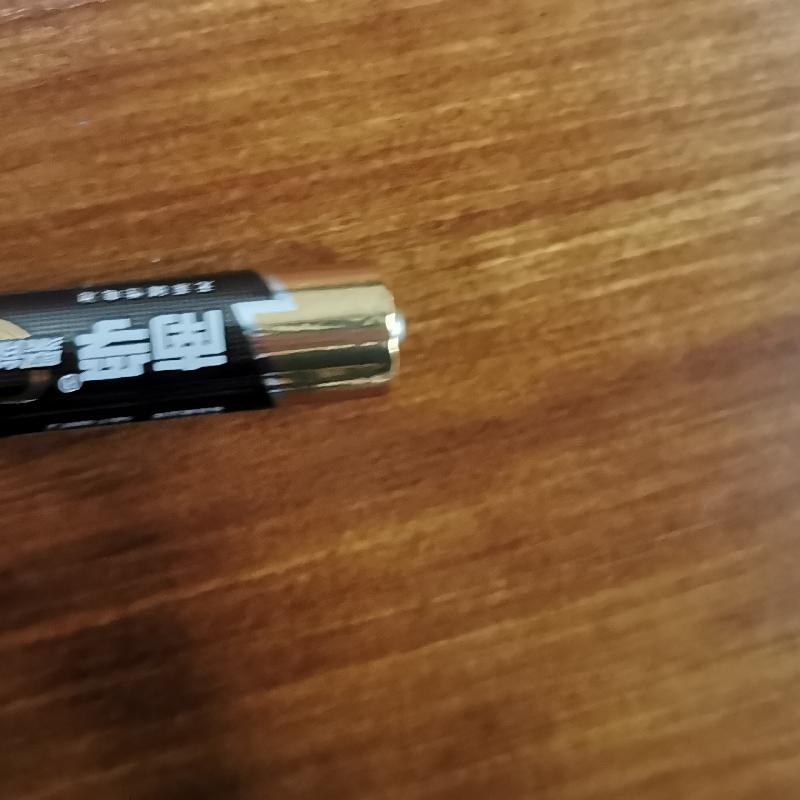battery: (1, 248, 418, 439)
